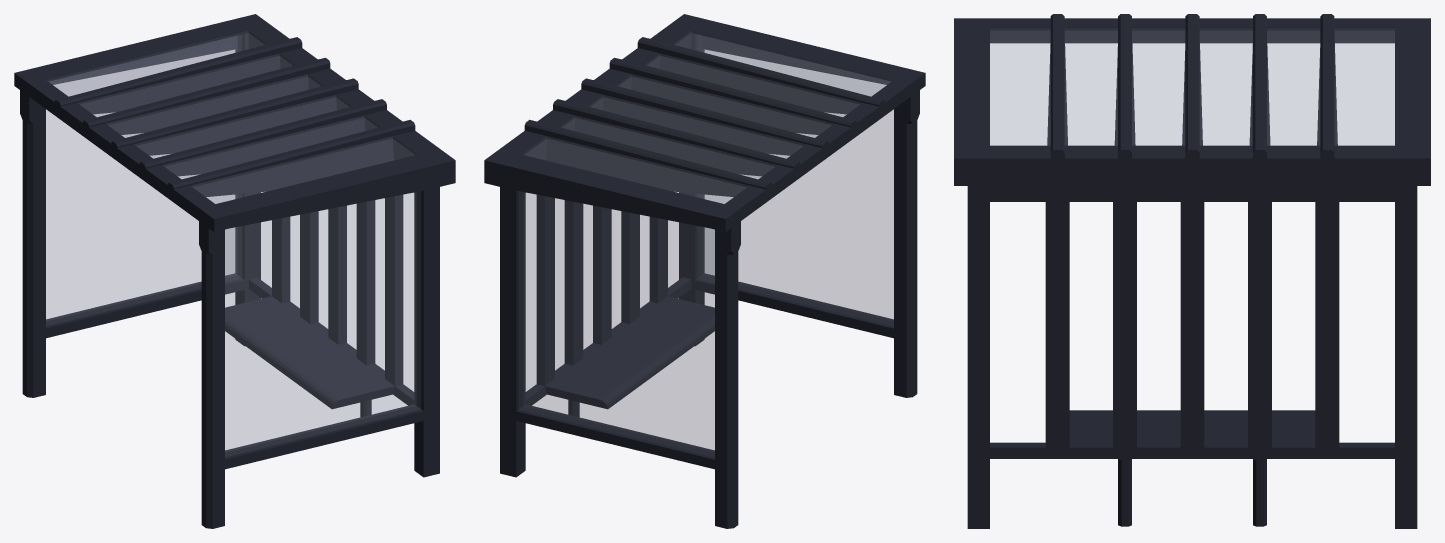
File: busStopWTextures.FBX
The picture shows the model from 3 angles, left to right: view 1: azimuth 30°, elevation 25°; view 2: azimuth 150°, elevation 25°; view 3: azimuth 270°, elevation 25°; orthographic projection. The views are drawn at different scales.
Parts seen in each view (by area): view 1: polySurface1, polySurface2; view 2: polySurface1, polySurface2; view 3: polySurface1, polySurface2.
Part boxes in pixels (x1=…): polySurface1: x1=14, y1=14, x2=455, y2=528; polySurface2: x1=46, y1=31, x2=420, y2=456; polySurface1: x1=484, y1=14, x2=925, y2=528; polySurface2: x1=519, y1=31, x2=893, y2=456; polySurface1: x1=954, y1=14, x2=1430, y2=528; polySurface2: x1=990, y1=28, x2=1394, y2=145.
Size of the model in its own units: 1.41 by 1.79 by 2.02.
